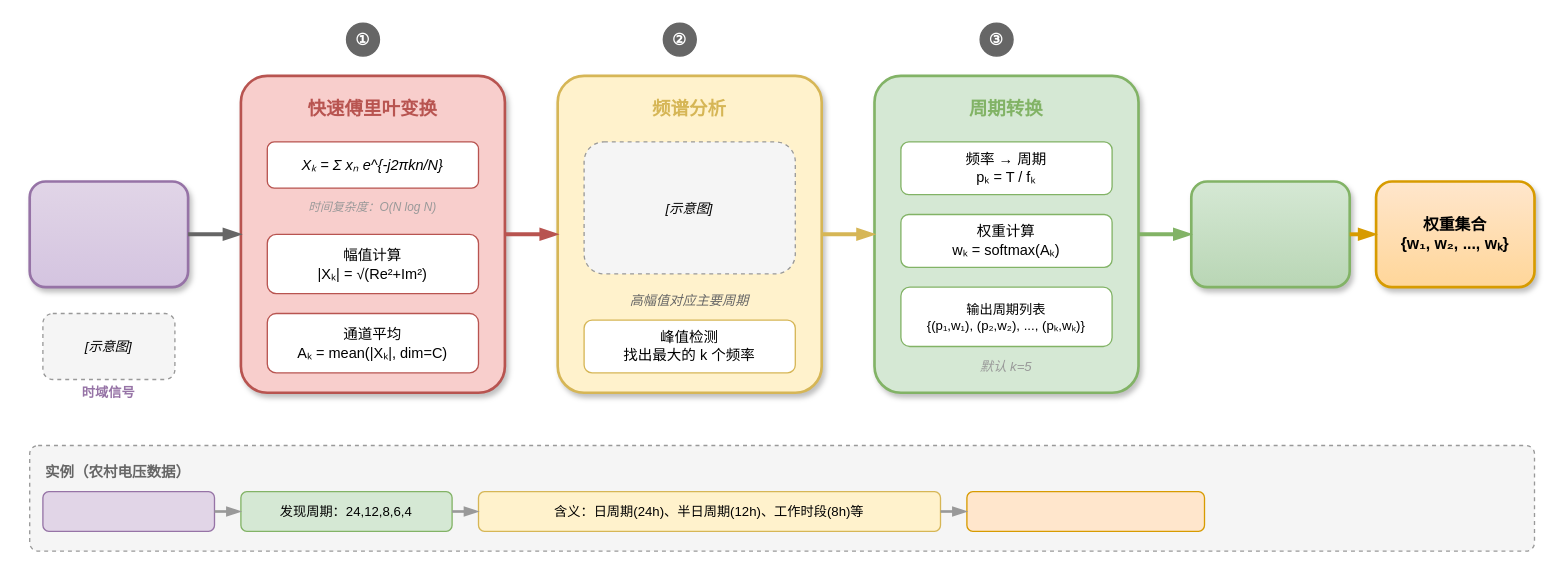
This 1566x574 diagram has some shape labels left out. Each missing label, with the centre of its shape:
周期集合 {p₁, p₂, ..., pₖ}: (x=1271, y=235)
权重：0.35,0.25,0.18,0.12,0.10: (x=1085, y=510)
输入时序 x ∈ R^T: (x=109, y=235)
输入：100个时间步: (x=128, y=510)
